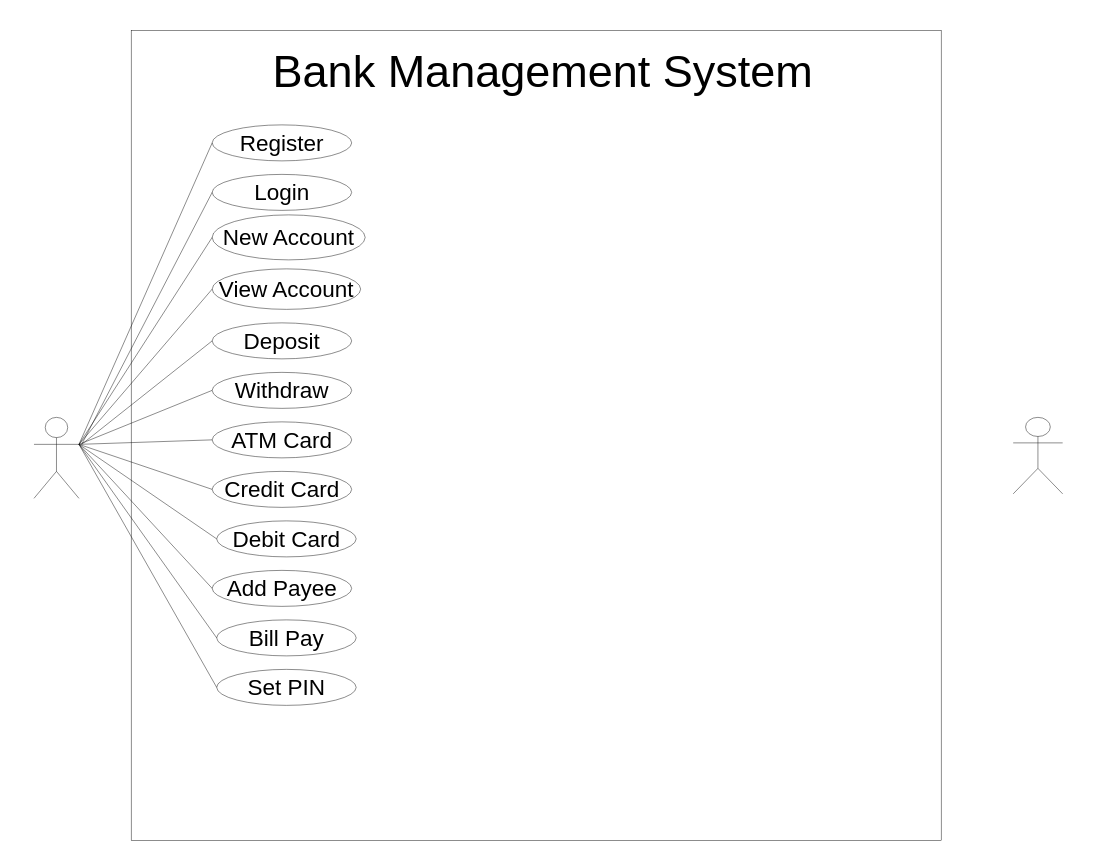
Image size: 1096x848. Some labels were removed from this diagram. The centre of each missing label's shape, as x and y in pixels:
"Customer" belongs at (x=56, y=457).
"Employee" belongs at (x=1038, y=455).
